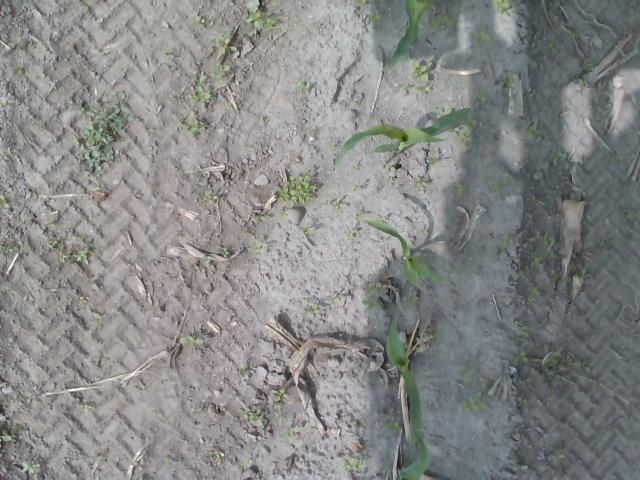Maize: (385, 303, 442, 444), (335, 107, 473, 154), (361, 218, 450, 288), (382, 0, 428, 73), (394, 435, 432, 480)
Weeds: (72, 94, 142, 178), (271, 166, 321, 210), (240, 0, 280, 40), (208, 29, 238, 79), (542, 349, 592, 374), (447, 120, 478, 152), (409, 57, 431, 96), (512, 324, 530, 366), (57, 244, 93, 264), (465, 24, 492, 48), (190, 74, 212, 103), (359, 284, 378, 314), (428, 11, 455, 32), (462, 394, 490, 412), (486, 174, 511, 193), (278, 426, 304, 444), (179, 334, 205, 350), (341, 456, 366, 472), (399, 293, 418, 314), (457, 364, 478, 382), (500, 72, 512, 102), (600, 238, 618, 258), (303, 302, 321, 321), (384, 416, 402, 434), (550, 150, 568, 168), (248, 238, 264, 258), (527, 286, 544, 304), (470, 87, 486, 106), (496, 233, 514, 249), (494, 0, 512, 15), (448, 184, 467, 198), (526, 124, 546, 137), (20, 461, 40, 474), (271, 388, 287, 404), (473, 376, 489, 392), (530, 254, 544, 272), (320, 198, 340, 210), (623, 208, 640, 222), (191, 117, 203, 136), (252, 211, 269, 224), (414, 176, 428, 191), (424, 325, 440, 338), (366, 10, 382, 22), (544, 252, 563, 262), (342, 226, 355, 240), (194, 16, 207, 30), (580, 58, 593, 72), (0, 244, 15, 256), (0, 194, 11, 210), (0, 434, 17, 444), (542, 234, 554, 248), (550, 268, 560, 284), (350, 184, 364, 194), (208, 450, 220, 461), (243, 412, 256, 422), (302, 223, 312, 236), (424, 158, 434, 170), (46, 239, 58, 249), (296, 79, 306, 91), (207, 192, 216, 204), (519, 398, 529, 408), (222, 248, 231, 258), (353, 0, 368, 6), (201, 255, 211, 264), (614, 154, 624, 162), (78, 296, 87, 304), (244, 459, 252, 467)
